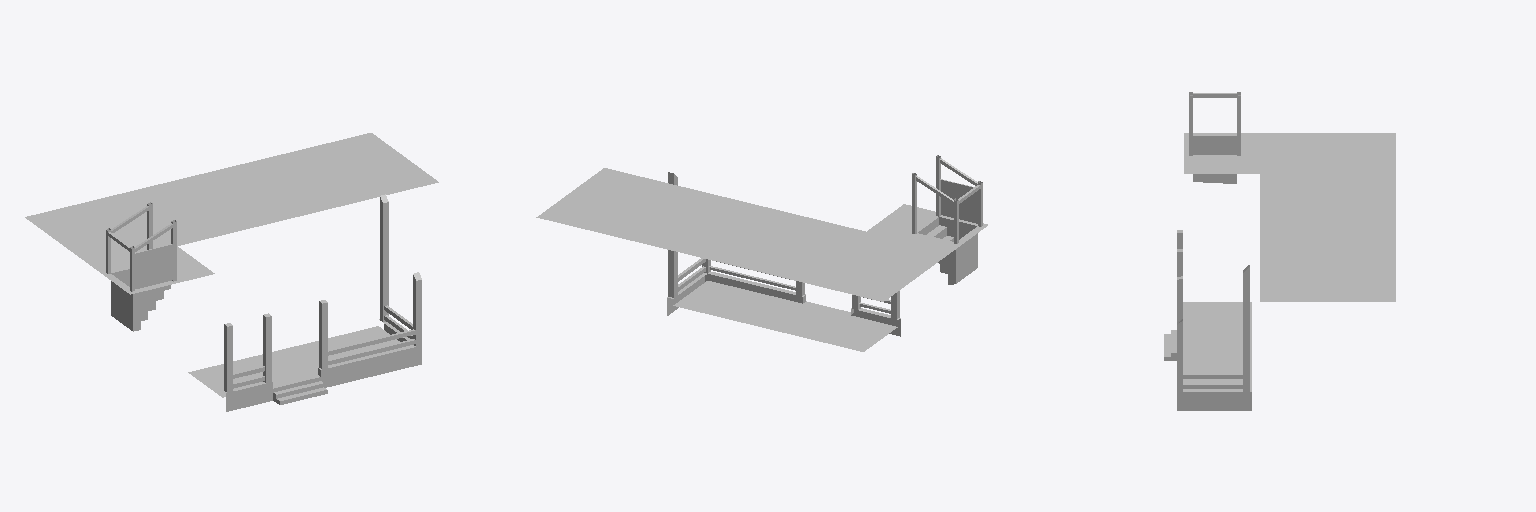
The model's file is OBJ_House_Wood.obj.
The picture shows the model from 3 angles: view 1: azimuth 30°, elevation 25°; view 2: azimuth 150°, elevation 25°; view 3: azimuth 270°, elevation 25°; orthographic projection.
Parts seen in each view (by area): view 1: Cube.001_Cube.003; view 2: Cube.001_Cube.003; view 3: Cube.001_Cube.003.
Part boxes in pixels (x1,y1,x2,y2): Cube.001_Cube.003: (25,133,438,411); Cube.001_Cube.003: (536,155,987,351); Cube.001_Cube.003: (1164,92,1395,410).
Bounding box in the file's own units: 16.24 × 8.82 × 9.41.